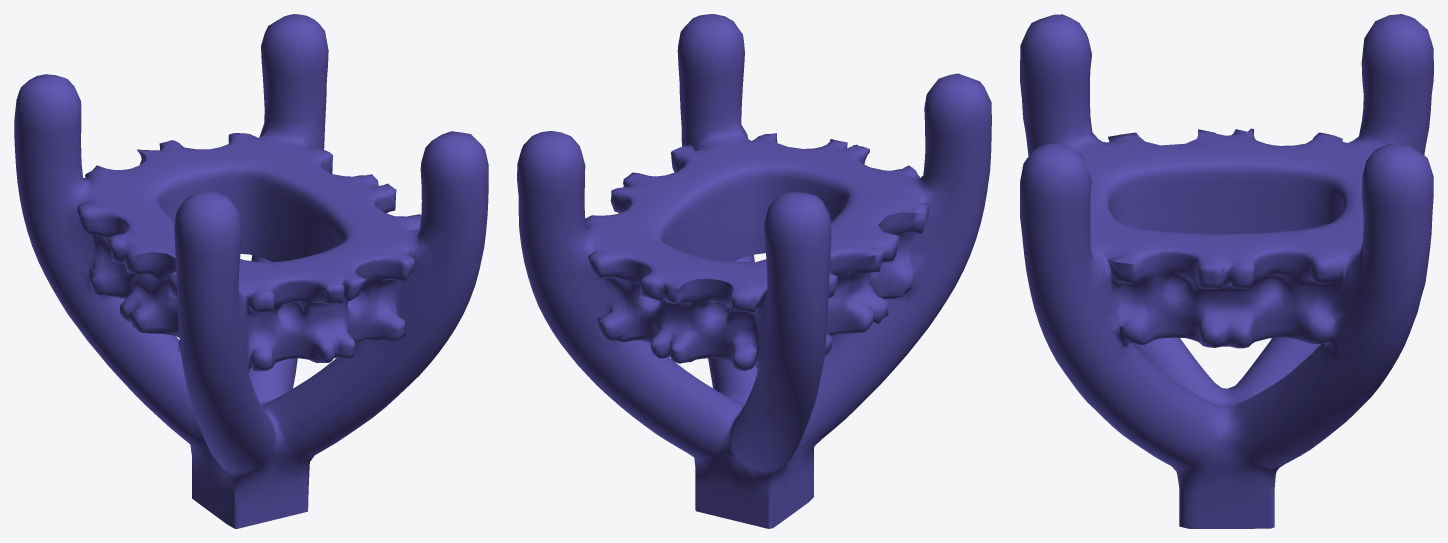
The model's file is Head_Hidden Halo_Elongated Cushion_0.50ct_Head.glb.
3 renders of one model, left to right at view 1: azimuth 30°, elevation 25°; view 2: azimuth 150°, elevation 25°; view 3: azimuth 270°, elevation 25°, orthographic. The views are drawn at different scales.
Size of the model in its own units: 0.00463 by 0.00574 by 0.00508.
